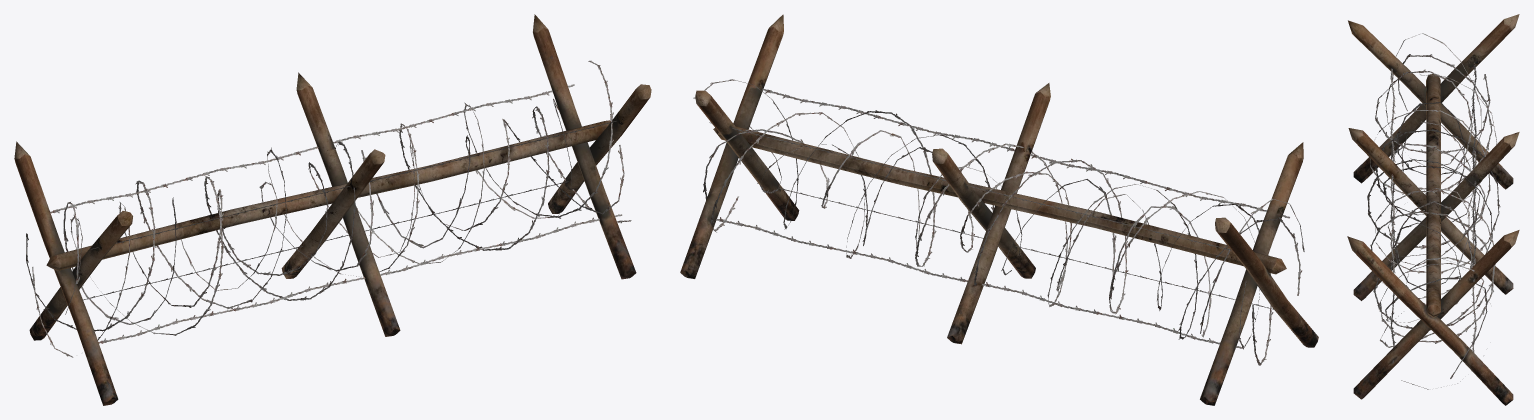
File: woodbarb.glb
The picture shows the model from 3 angles, left to right: view 1: azimuth 30°, elevation 25°; view 2: azimuth 150°, elevation 25°; view 3: azimuth 270°, elevation 25°; orthographic projection. The views are drawn at different scales.
Visible parts, largest first — view 1: object_0_object_0_0; view 2: object_0_object_0_0; view 3: object_0_object_0_0.
Part boxes in pixels (box(x1,y1,x2,y2)): object_0_object_0_0: box(14, 14, 651, 405); object_0_object_0_0: box(680, 14, 1318, 405); object_0_object_0_0: box(1347, 14, 1519, 405).
Size of the model in its own units: 5.16 by 1.69 by 1.57.
1 material, 1 textured.
